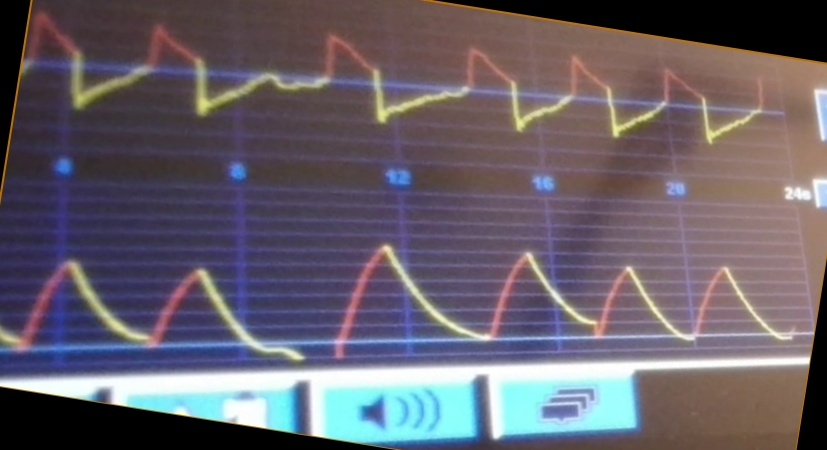Ineffective_effort Flow: (27, 8, 767, 149)
Ineffective_effort Volume: (1, 240, 793, 356)
